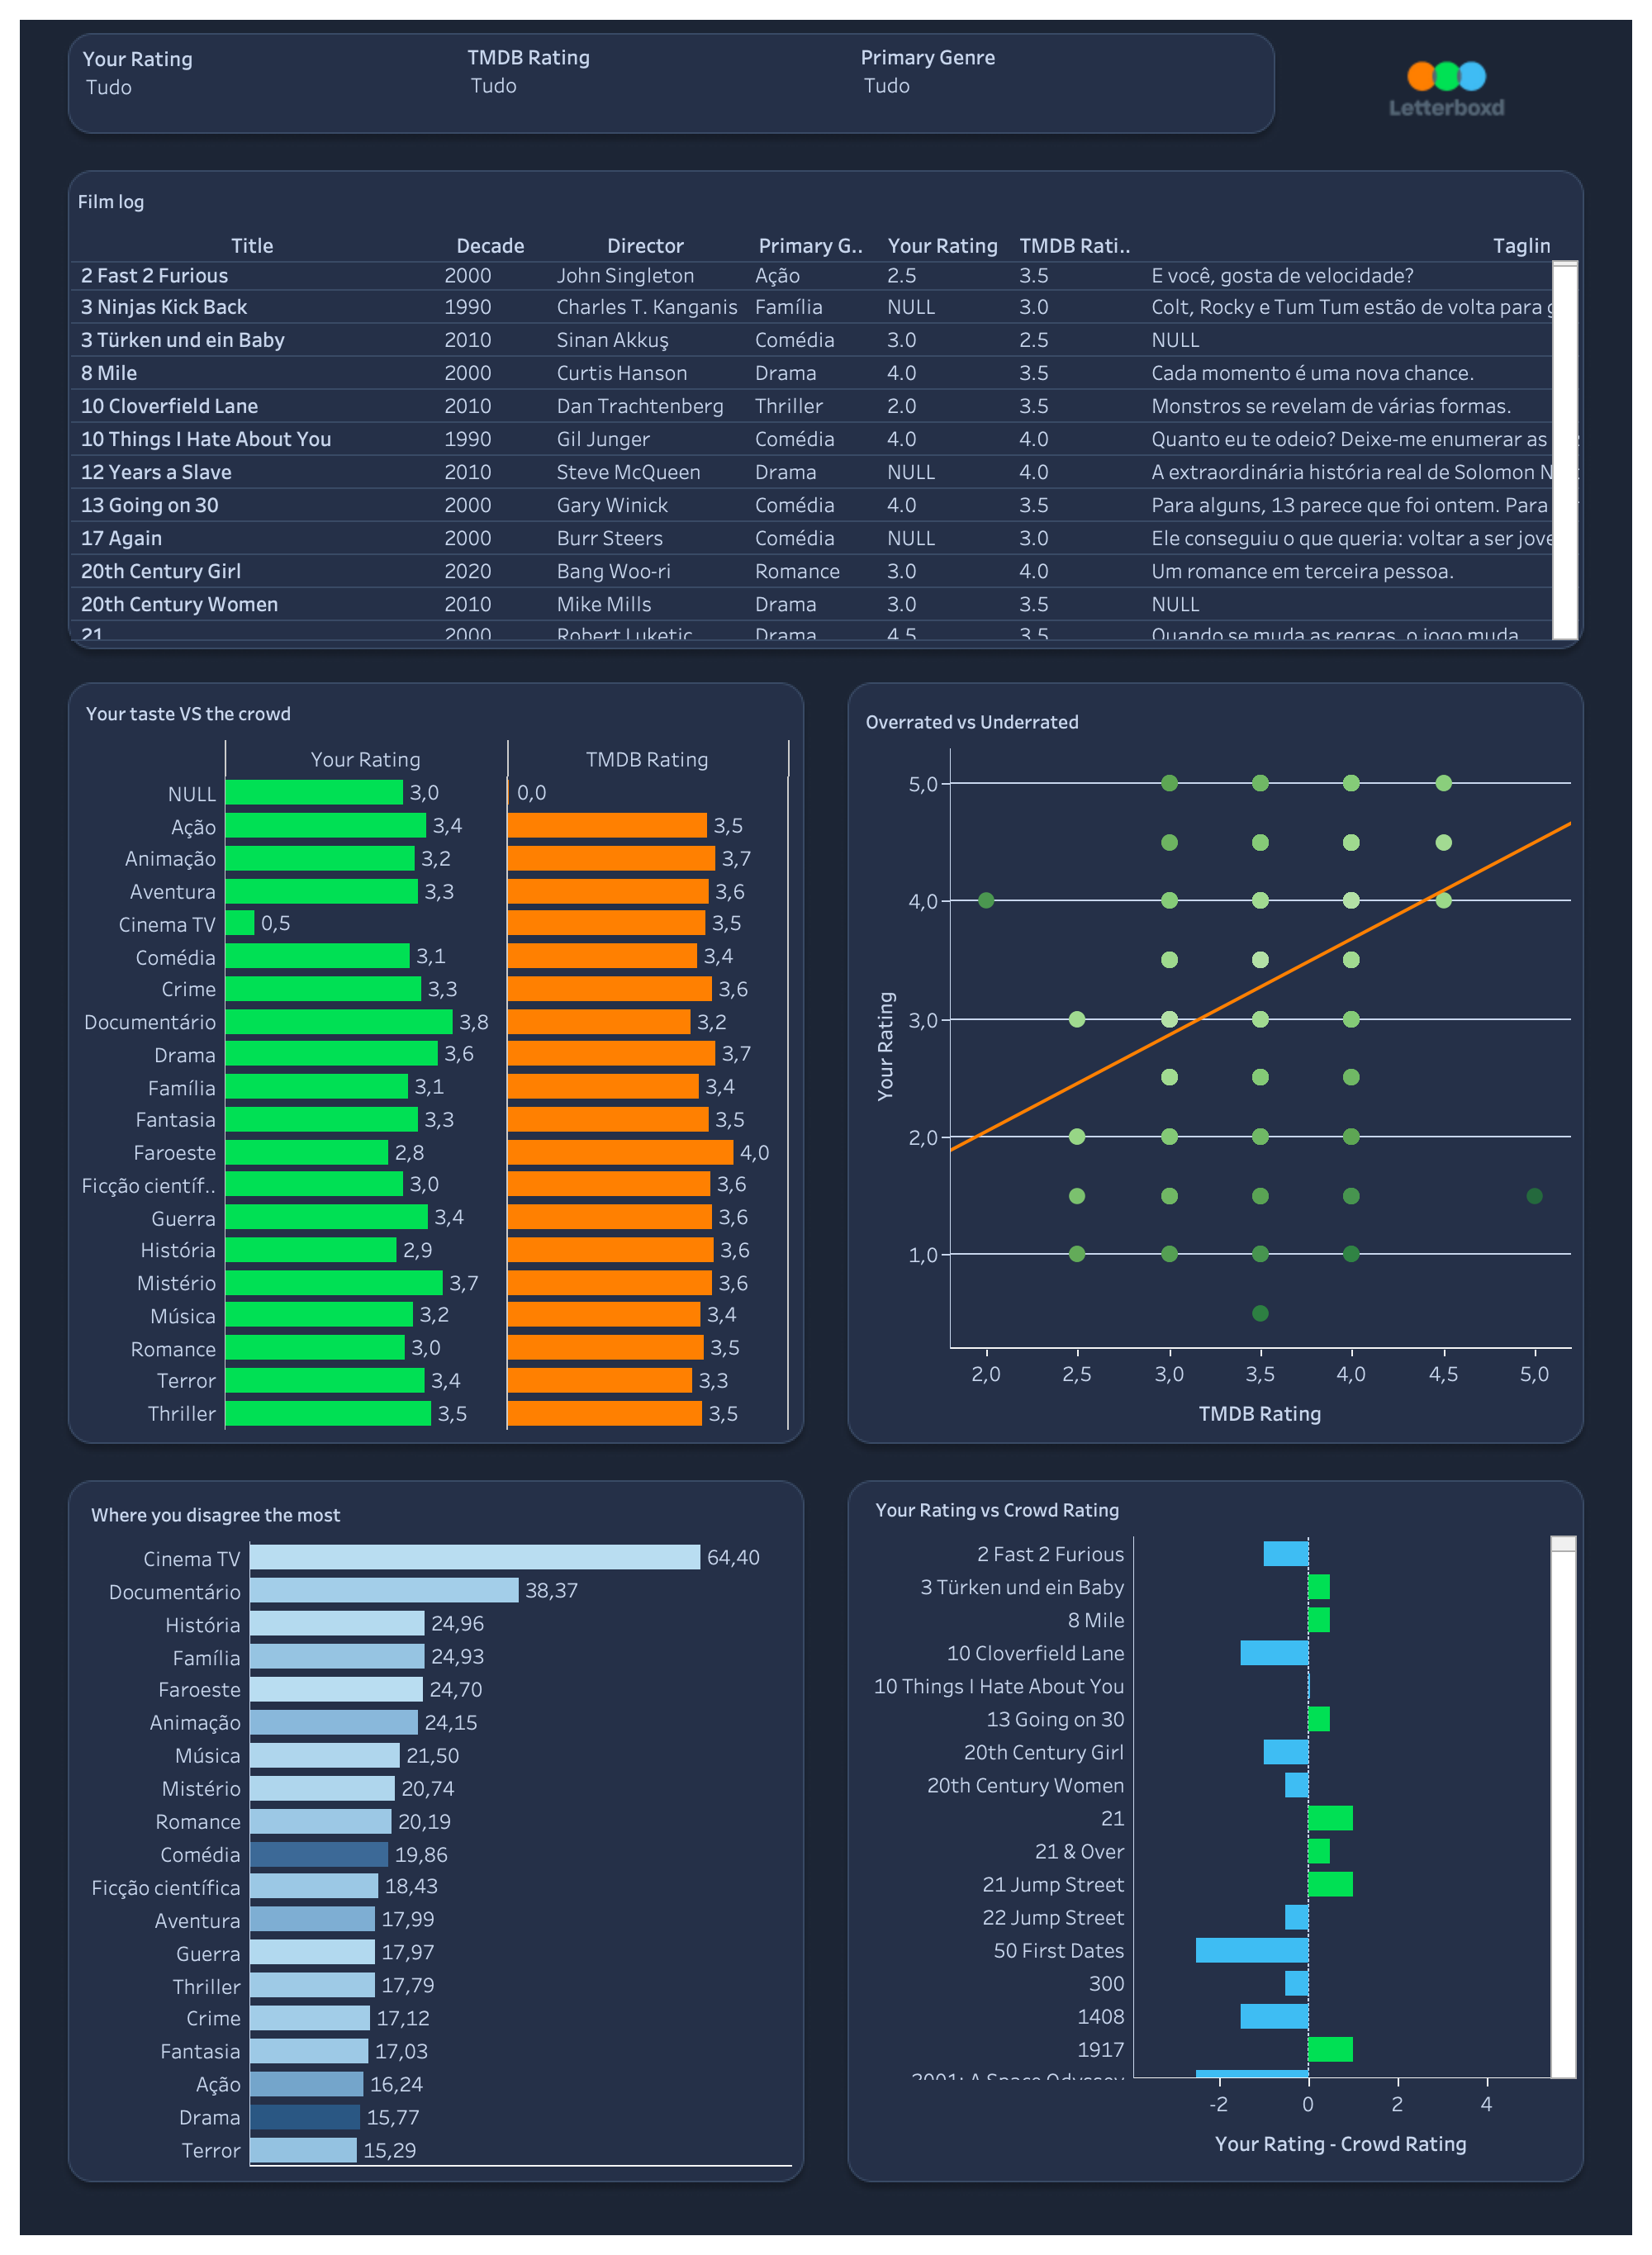

This screenshot's page, from the dashboard's own definition file:
{"tool":"tableau","page":{"name":"You x Crowd","canvas":[1000,1365],"ordinal":1},"visuals":[{"type":"image","param":"/Users/jamille.ghazaleh/Downloads/Github/letterboxd/layout/Section 3.png","box":[8,8,984,1349]},{"type":"filter","title":"Main Table","param":"[federated.05zg4a00elwfq8104ltzm1jy10jv].[none:TMDB Rating (0-5):nk]","box":[283,25,204,50]},{"type":"filter","title":"Your taste VS the crowd","param":"[federated.05zg4a00elwfq8104ltzm1jy10jv].[none:Primary Genre:nk]","box":[521,25,233,51]},{"type":"filter","title":"Main Table","param":"[federated.05zg4a00elwfq8104ltzm1jy10jv].[none:Your Rating:nk]","box":[50,26,207,50]},{"type":"image","param":"/var/folders/fg/bck100cn6xx4bpw1fwjbyv900000gn/T/tableau-temp/0hrz0cx110c33l19c1","box":[810,29,133,49]},{"type":"worksheet","title":"Main Table","mark":"Automatic","rows":["Title","Decade","Director","Primary Genre","Your Rating","TMDB Rating (0-5)","Tagline"],"box":[43,108,913,280]},{"type":"worksheet","title":"Your taste VS the crowd","mark":"Automatic","rows":["Primary Genre"],"box":[48,418,430,448]},{"type":"worksheet","title":"Overrated vs Underrated","mark":"Automatic","rows":["Calculation_0782290033889281"],"cols":["Calculation_2059442132639746"],"box":[520,423,431,448]},{"type":"worksheet","title":"Your Rating vs Crowd Rating","mark":"Automatic","rows":["Title"],"cols":["Calculation_2867583550828545"],"box":[526,900,429,413]},{"type":"worksheet","title":"Where you disagree the most","mark":"Automatic","rows":["Primary Genre"],"cols":["Calculation_2059442127536128"],"box":[51,903,428,408]}]}

Visuals, with their boxes in screenshot pixels (x1, y1, x2, y2), scaled from the page's 1000x1365 canvas onto the 1652x2255 screenshot:
image: bbox=(13, 13, 1639, 2242)
"Main Table" filter: bbox=(468, 41, 805, 124)
"Your taste VS the crowd" filter: bbox=(861, 41, 1246, 126)
"Main Table" filter: bbox=(83, 43, 425, 126)
image: bbox=(1338, 48, 1558, 129)
"Main Table" worksheet: bbox=(71, 178, 1579, 641)
"Your taste VS the crowd" worksheet: bbox=(79, 691, 790, 1431)
"Overrated vs Underrated" worksheet: bbox=(859, 699, 1571, 1439)
"Your Rating vs Crowd Rating" worksheet: bbox=(869, 1487, 1578, 2169)
"Where you disagree the most" worksheet: bbox=(84, 1492, 791, 2166)
